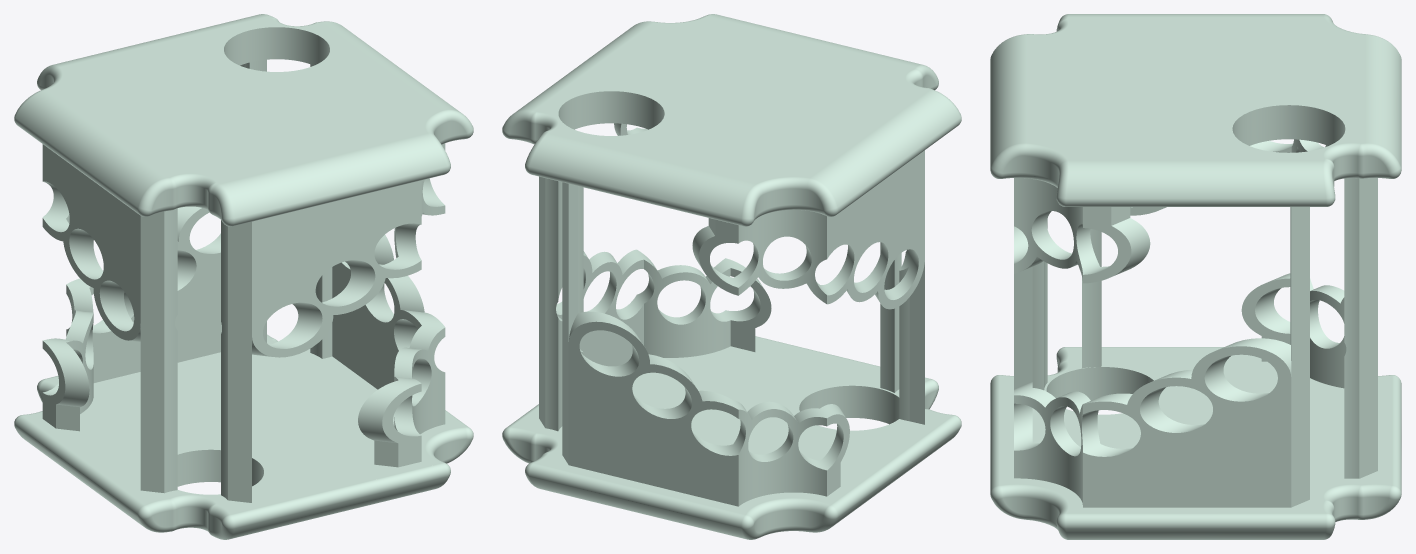
File: echo.gltf
The picture shows the model from 3 angles, left to right: view 1: azimuth 30°, elevation 25°; view 2: azimuth 150°, elevation 25°; view 3: azimuth 270°, elevation 25°; orthographic projection. The views are drawn at different scales.
Visible parts, largest first — view 1: TransformZUpToYUp; view 2: TransformZUpToYUp; view 3: TransformZUpToYUp.
Boxes of the visible parts, bbox=[...] form: TransformZUpToYUp: bbox=[14, 14, 473, 539]; TransformZUpToYUp: bbox=[502, 14, 961, 539]; TransformZUpToYUp: bbox=[990, 14, 1401, 539].
Size of the model in its own units: 43.66 by 44 by 43.66.
